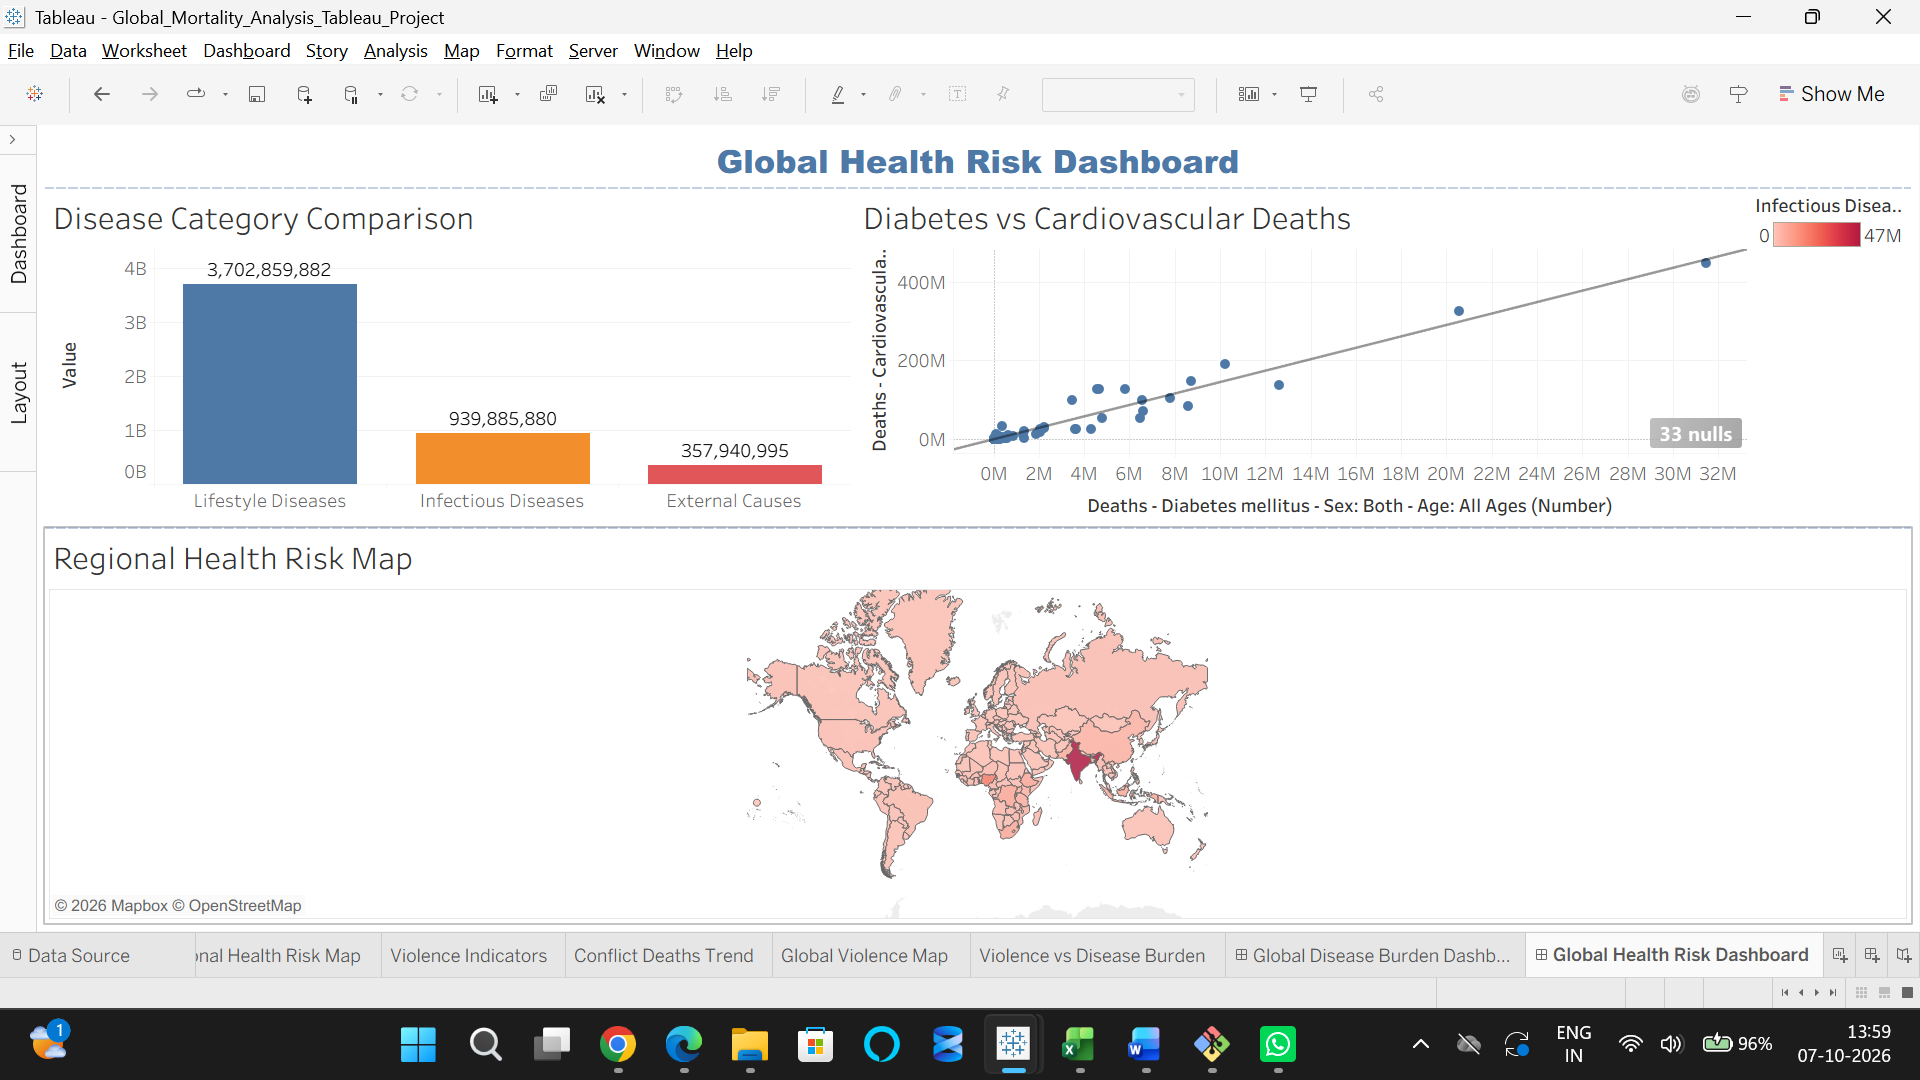

This screenshot's page, from the dashboard's own definition file:
{"tool":"tableau","page":{"name":"Global Health Risk Dashboard ","canvas":[1000,1000],"units":"permille","ordinal":1},"visuals":[{"type":"text","box":[5,9.9,990,68.2]},{"type":"worksheet","title":"Disease Category Comparison","mark":"Bar","box":[5,78.2,418.4,421.8]},{"type":"worksheet","title":"Diabetes vs Cardiovascular Deaths","mark":"Circle","rows":[" All Ages (Number)"],"cols":[" All Ages (Number)"],"box":[423.4,78.2,472,421.8]},{"type":"legend","title":"Regional Health Risk Map","param":"[federated.098tocu1ctvc5j179jcxe097tbna].[usr:Calculation_0120448956776458:qk]","box":[895.4,78.2,99.6,100.5]},{"type":"worksheet","title":"Regional Health Risk Map","mark":"Multipolygon","box":[5,500,990,490.1]}]}

Visuals, with their boxes on the dashboard's canvas, which has no fixed pixel size, in thousandths of its width and height (x1, y1, x2, y2). These are canvas units, not pixel positions in the 1920x1080 screenshot, which may show the page scaled, cropped or inside an application window:
text: select_region(5, 10, 995, 78)
"Disease Category Comparison" worksheet (Bar marks): select_region(5, 78, 423, 500)
"Diabetes vs Cardiovascular Deaths" worksheet (Circle marks): select_region(423, 78, 895, 500)
"Regional Health Risk Map" legend: select_region(895, 78, 995, 179)
"Regional Health Risk Map" worksheet (Multipolygon marks): select_region(5, 500, 995, 990)
